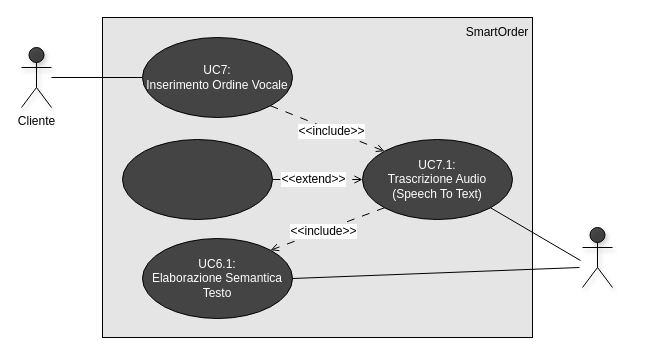
This 649x355 diagram has some shape labels left out. The shapes that lost their labels are listed below. From the top down, each one's centre as x and y in pixels, then its label:
the point at 197,179: UC7.2: Visualizzazione Errore Trascrizione Audio
the point at 598,258: Moduli AI/ML
